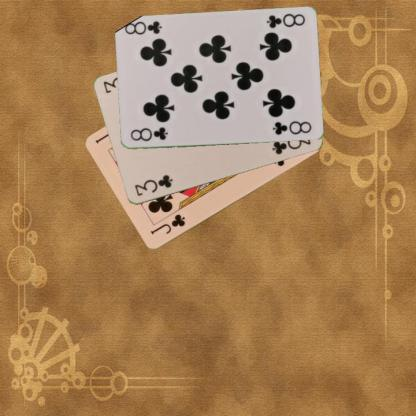3c: (132, 172, 174, 198)
8c: (264, 11, 306, 30), (128, 125, 169, 143)
Jc: (147, 212, 187, 236)
